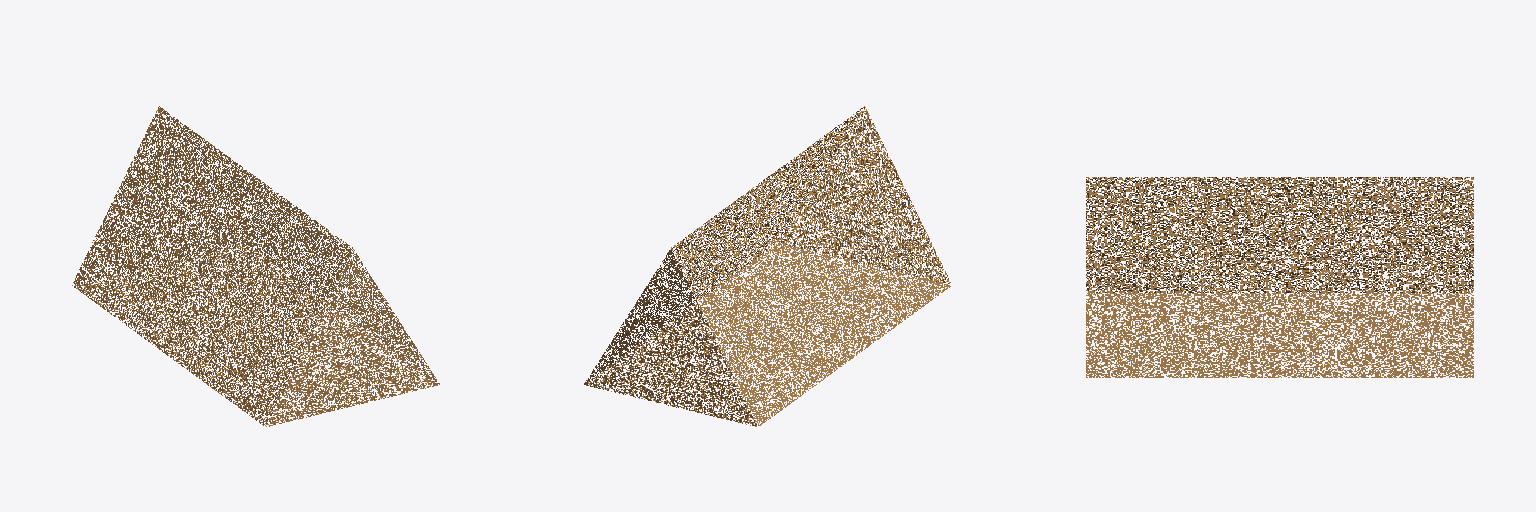
The picture shows the model from 3 angles: view 1: azimuth 30°, elevation 25°; view 2: azimuth 150°, elevation 25°; view 3: azimuth 270°, elevation 25°; orthographic projection.
Visible parts, largest first — view 1: FireUnlocked_Circle; view 2: FireUnlocked_Circle; view 3: FireUnlocked_Circle.
Part boxes in pixels (x1,y1,x2,y2): FireUnlocked_Circle: (72,106,439,426); FireUnlocked_Circle: (584,106,950,426); FireUnlocked_Circle: (1086,177,1473,377).
Bounding box in the file's own units: 0.2078 × 0.18 × 0.4.
Materials: 1 (1 with a texture image).